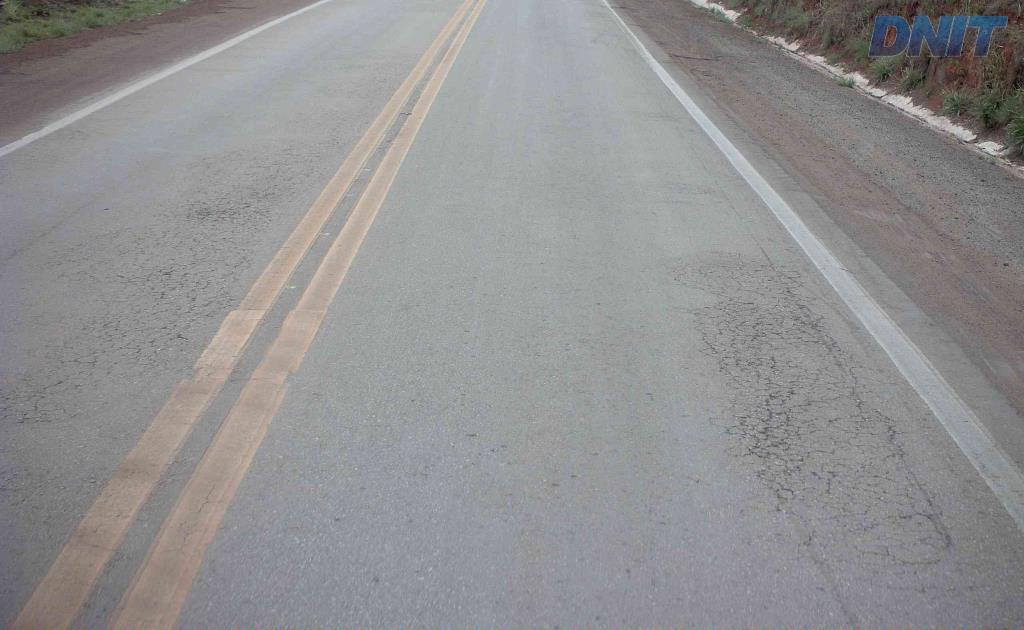crack: (732, 371, 843, 483), (841, 366, 917, 481), (915, 493, 951, 553), (718, 335, 763, 383), (723, 313, 784, 347), (788, 331, 847, 360), (782, 305, 825, 338)
